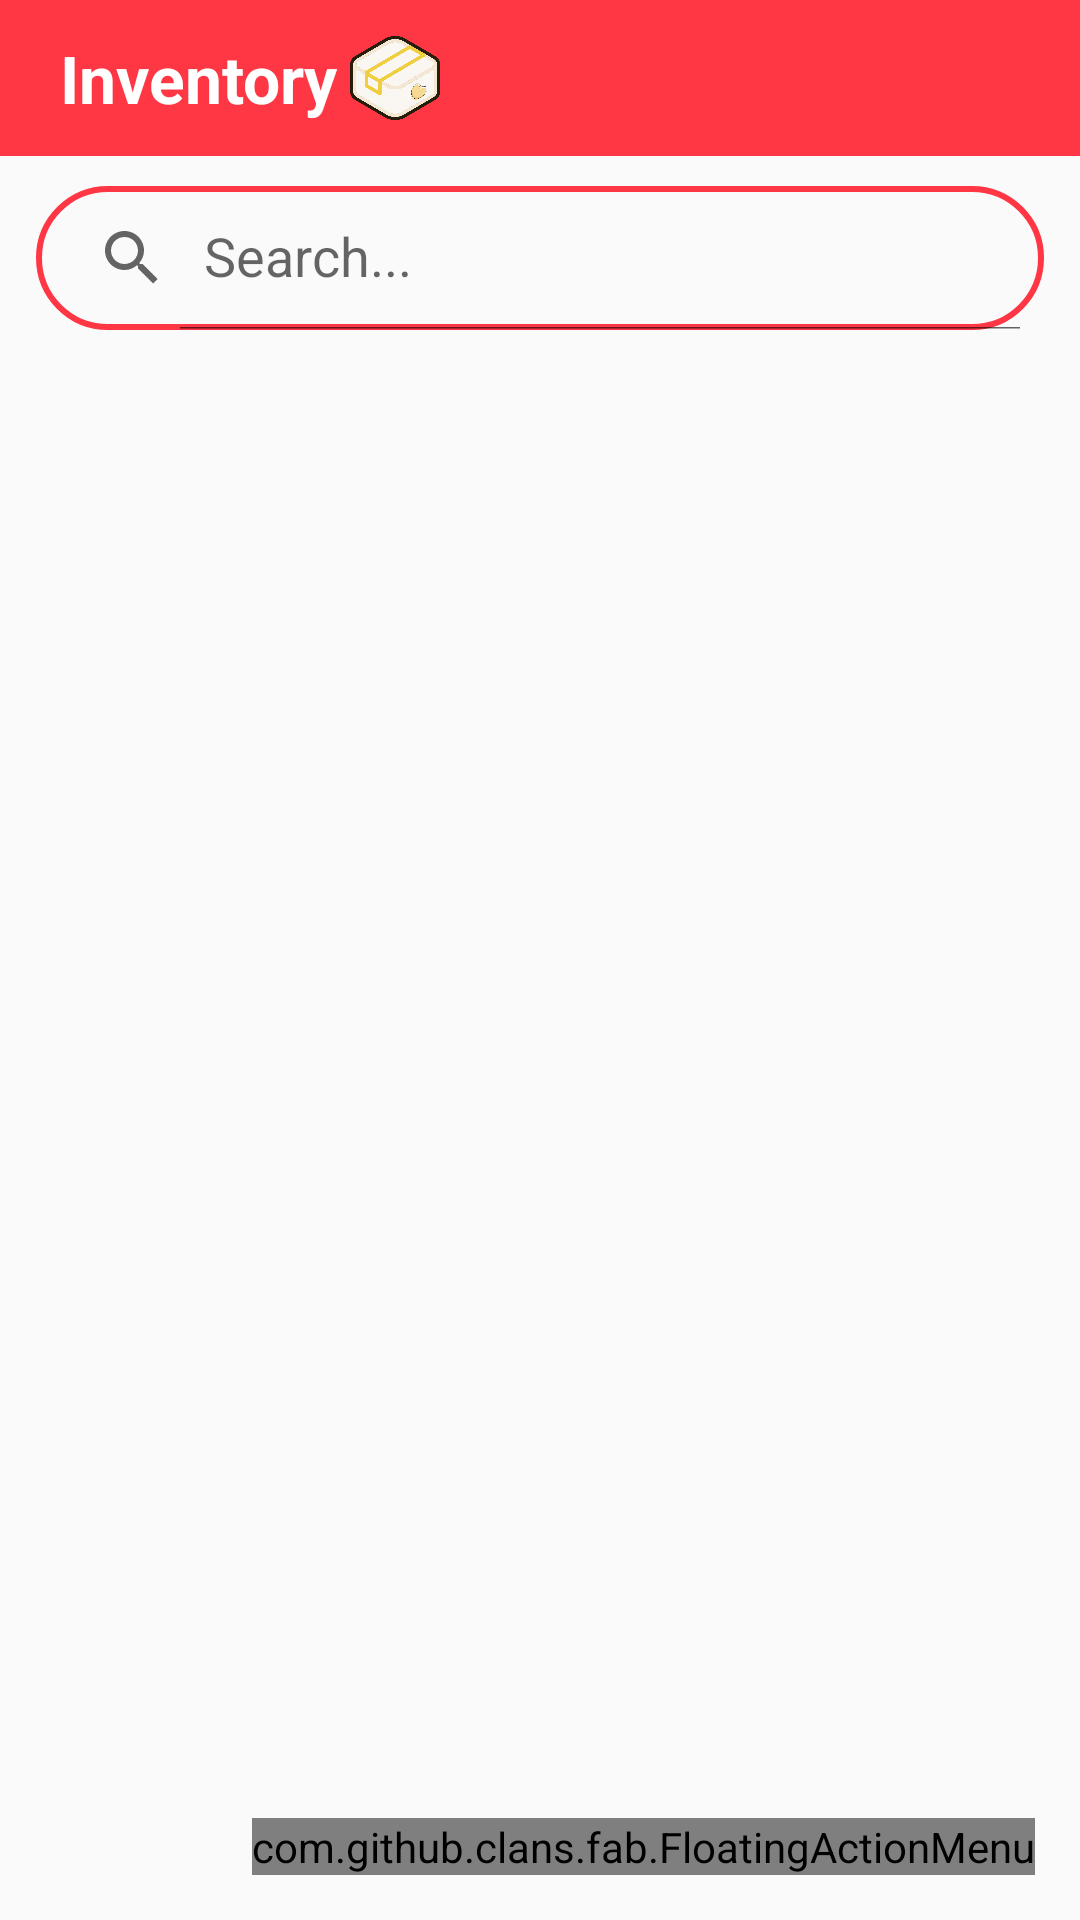

Icon bounding boxes for this 1080px×1920px phone screenshot, format (x1, y1, x2, y2):
loogo: (350, 36, 440, 120)
